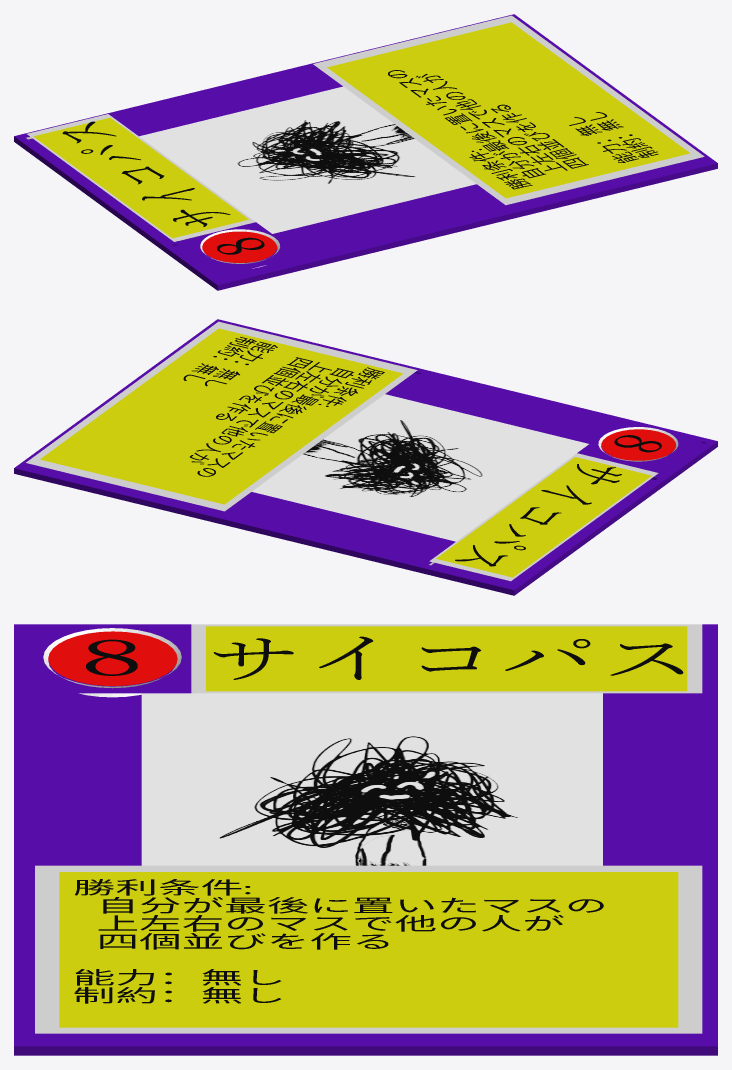
File: サイコパス紫.fbx
The picture shows the model from 3 angles, top to bottom: view 1: azimuth 30°, elevation 25°; view 2: azimuth 150°, elevation 25°; view 3: azimuth 270°, elevation 25°; orthographic projection. The views are drawn at different scales.
Parts seen in each view (by area): view 1: 説明欄, 平面.001, カード本体.001, 名前欄, 説明文, 平面, 円, 名前; view 2: 説明欄, 平面.001, カード本体.001, 名前欄, 説明文, 円, 平面, 名前; view 3: 説明欄, 平面.001, カード本体.001, 名前欄, 説明文, 平面, 円, 名前, コスト蘭, コスト.
Part boxes in pixels (bbox=[...]): 説明欄: bbox=[313, 15, 704, 205]; 平面.001: bbox=[139, 86, 476, 233]; カード本体.001: bbox=[14, 14, 717, 290]; 名前欄: bbox=[27, 114, 255, 241]; 説明文: bbox=[388, 70, 658, 189]; 平面: bbox=[174, 222, 302, 275]; 円: bbox=[202, 231, 276, 262]; 名前: bbox=[62, 121, 230, 226]; 説明欄: bbox=[26, 321, 417, 511]; 平面.001: bbox=[252, 394, 588, 541]; カード本体.001: bbox=[14, 319, 717, 595]; 名前欄: bbox=[429, 453, 658, 581]; 説明文: bbox=[183, 337, 384, 476]; 円: bbox=[601, 429, 675, 460]; 平面: bbox=[577, 419, 704, 472]; 名前: bbox=[455, 464, 621, 566]; 説明欄: bbox=[35, 865, 702, 1033]; 平面.001: bbox=[141, 693, 602, 865]; カード本体.001: bbox=[14, 624, 717, 1055]; 名前欄: bbox=[191, 624, 702, 693]; 説明文: bbox=[74, 879, 603, 1003]; 平面: bbox=[30, 624, 191, 693]; 円: bbox=[48, 631, 177, 686]; 名前: bbox=[213, 636, 683, 679]; コスト蘭: bbox=[43, 628, 181, 697]; コスト: bbox=[86, 639, 137, 675].
Size of the model in its own units: 281 by 6.07 by 198.
